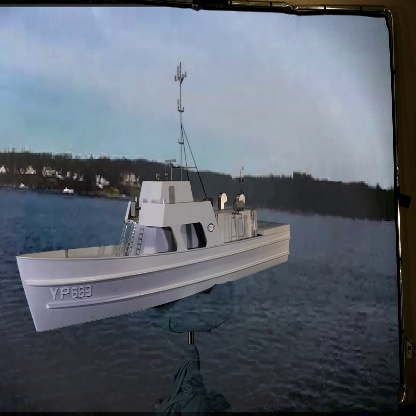YP689: (16, 59, 290, 331)
